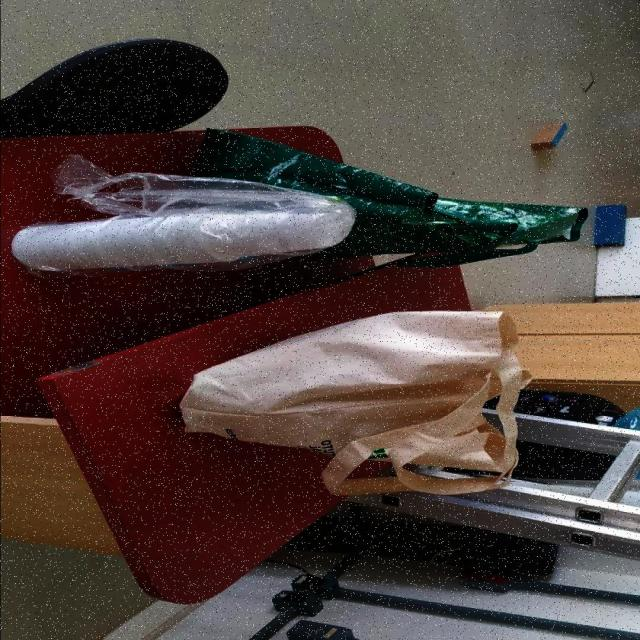Bag: (173, 308, 536, 498), (188, 129, 591, 267)
